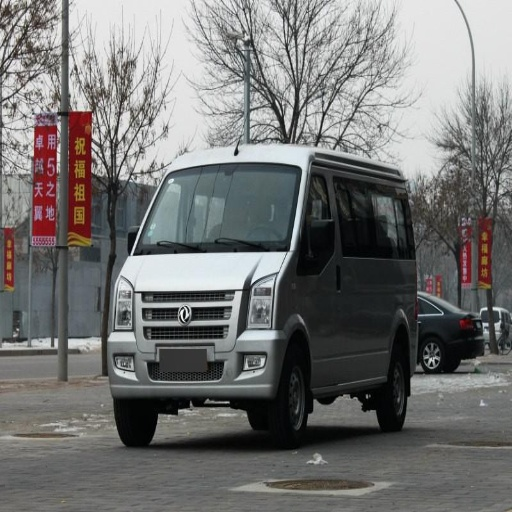front_bumper: (109, 291, 288, 398)
front_glass: (135, 164, 300, 254)
front_left_door: (303, 169, 364, 380)
trunk: (366, 260, 443, 335)
